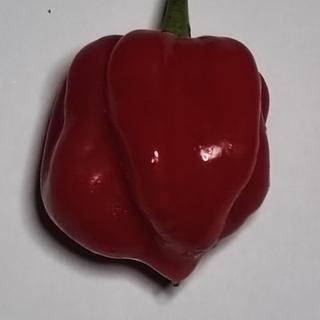Grade-B: (28, 25, 280, 281)
